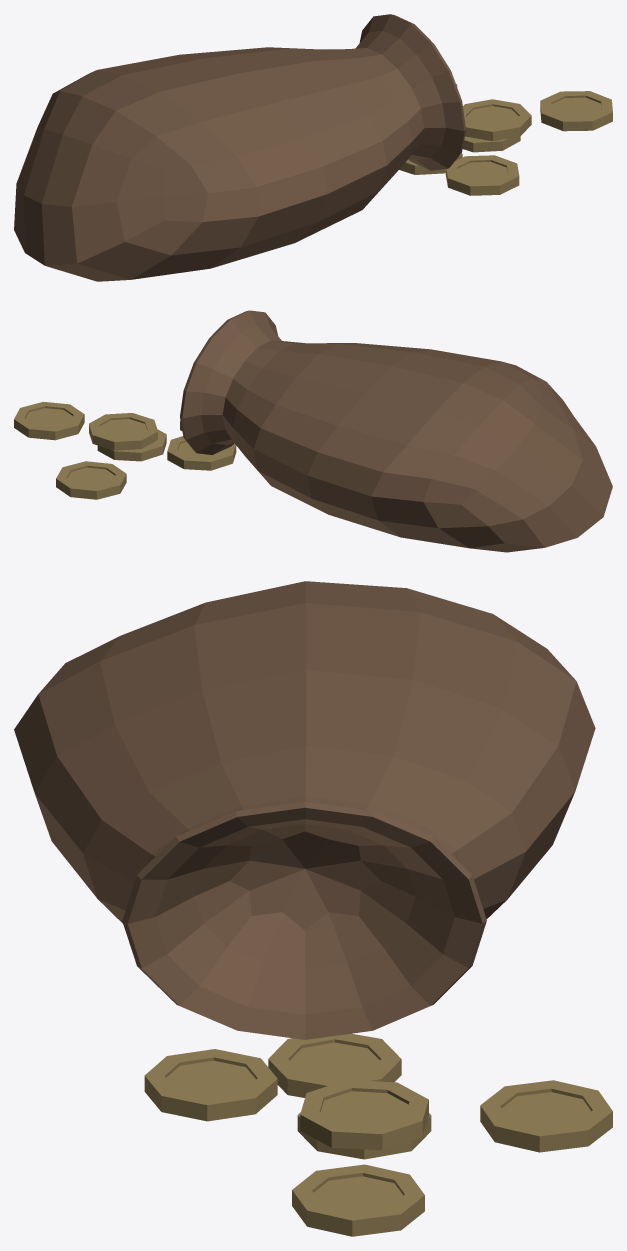
Rendered from quaternius-modular-dungeon-1-bag-coins.glb.
The picture shows the model from 3 angles, top to bottom: view 1: azimuth 30°, elevation 25°; view 2: azimuth 150°, elevation 25°; view 3: azimuth 270°, elevation 25°; orthographic projection. The views are drawn at different scales.
Parts seen in each view (by area): view 1: Bag_Coins; view 2: Bag_Coins; view 3: Bag_Coins.
Part boxes in pixels (<box>): Bag_Coins: <box>14,14,612,281</box>; Bag_Coins: <box>14,310,612,552</box>; Bag_Coins: <box>14,581,612,1236</box>.
Size of the model in its own units: 0.442 by 0.1146 by 0.2222.
